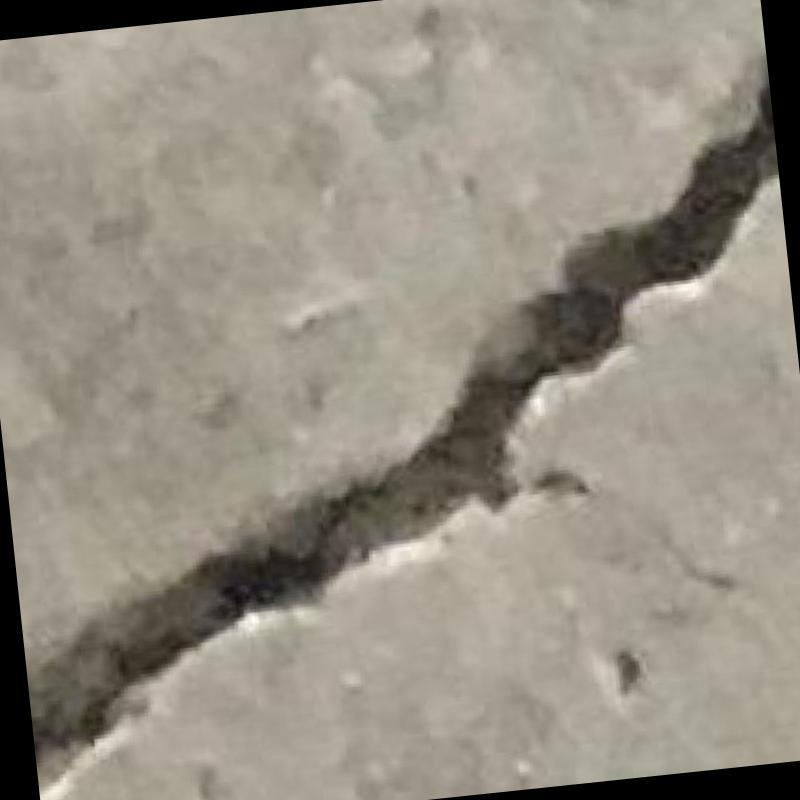crack: (26, 69, 777, 787)
